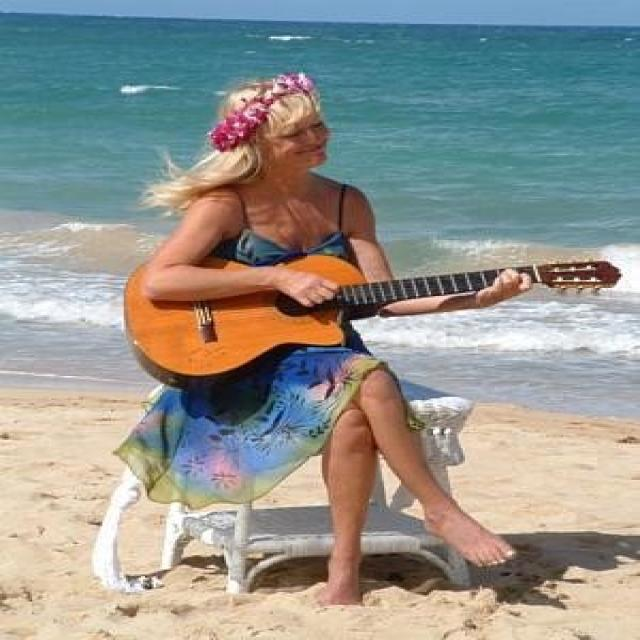guitar: (118, 256, 622, 390)
